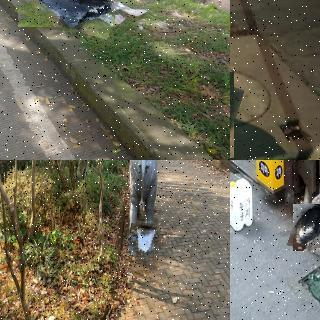Garbage: (16, 0, 116, 33), (289, 201, 320, 253), (129, 222, 156, 256)
